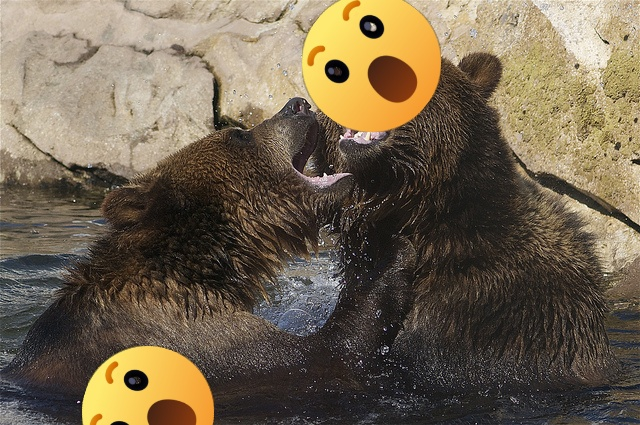wow: (302, 0, 441, 132), (82, 346, 214, 425)
